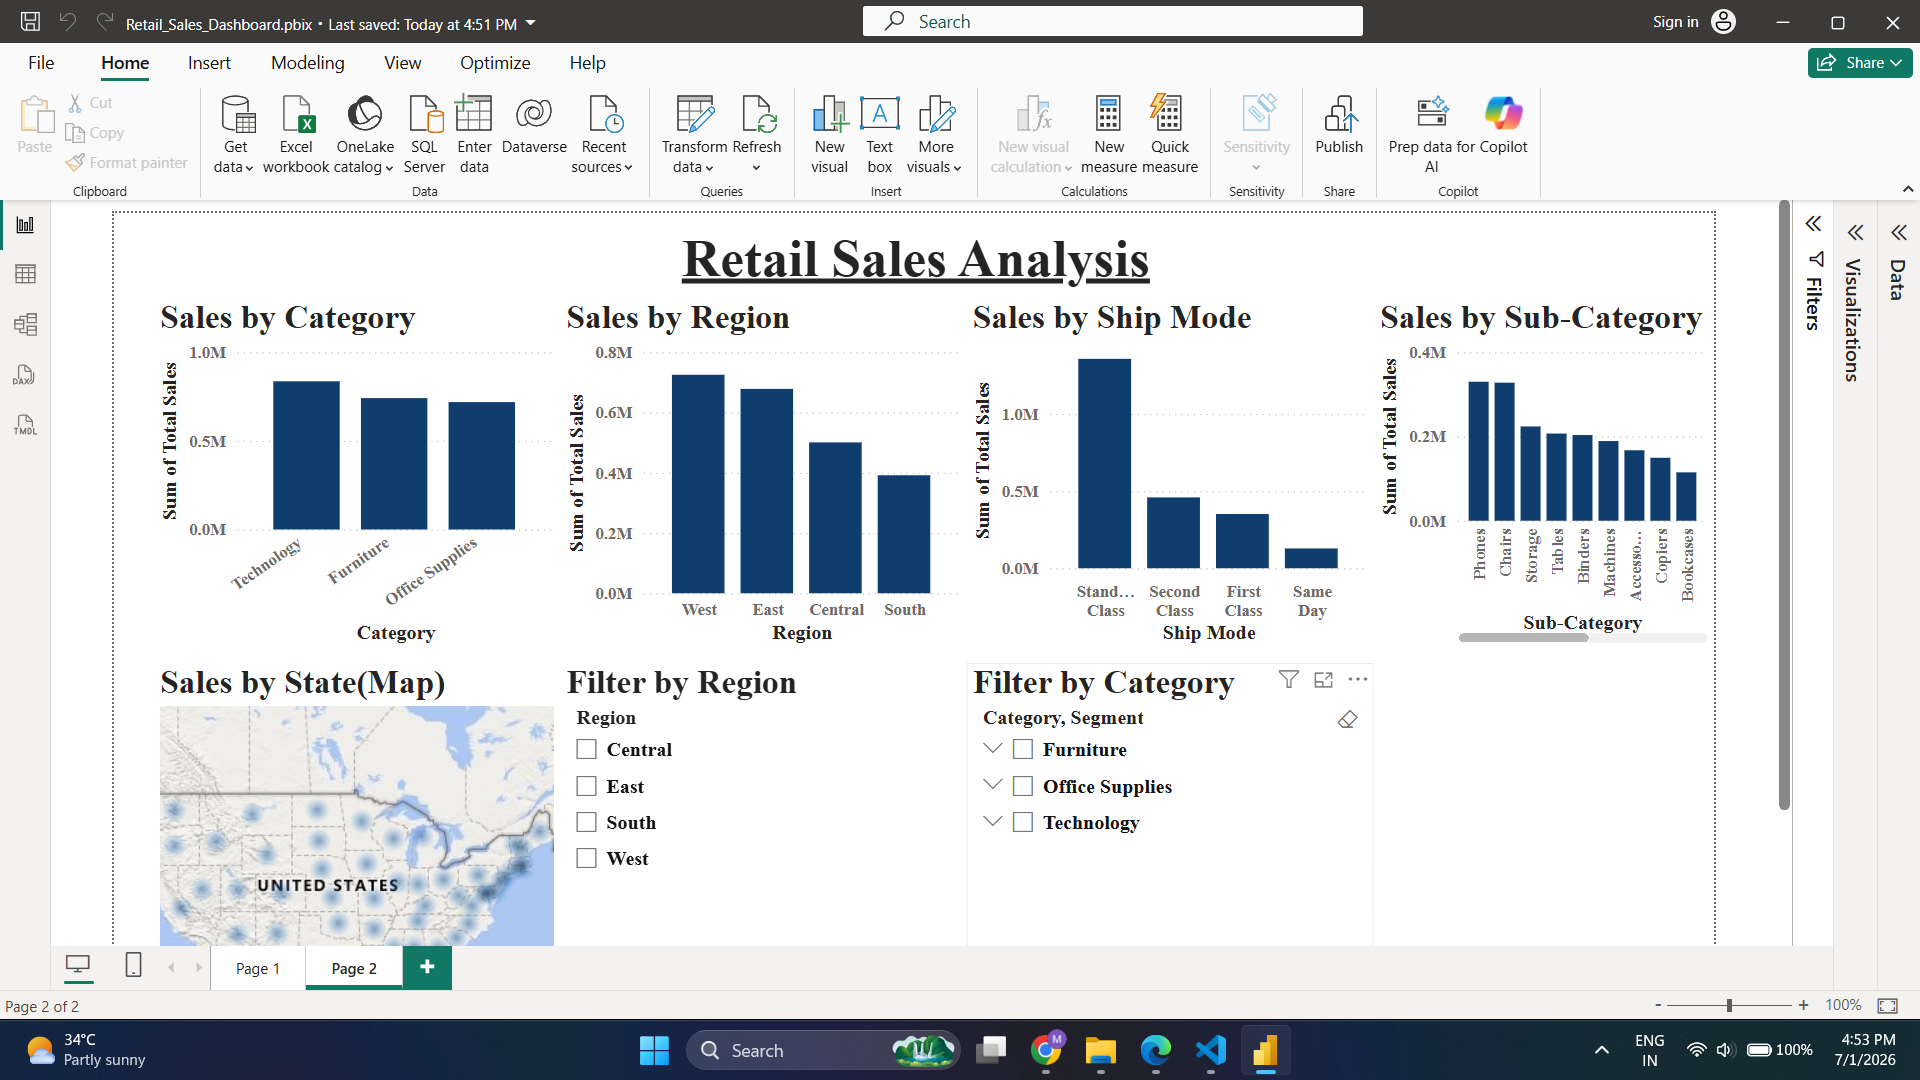

This screenshot's page, from the dashboard's own definition file:
{"tool":"powerbi","page":{"name":"Page 2","canvas":[1280,720],"ordinal":1},"visuals":[{"type":"clusteredColumnChart","title":"Sales by Category","fields":{"Category":["retail_sales_cleaned.Category"],"Y":["Sum(retail_sales_cleaned.Total Sales)"]},"box":[31.8,68.5,325.3,280],"z":0},{"type":"clusteredColumnChart","title":"Sales by Region","fields":{"Category":["retail_sales_cleaned.Region"],"Y":["Sum(retail_sales_cleaned.Sales)"]},"box":[357.1,68.5,325.3,280],"z":1000},{"type":"clusteredColumnChart","title":"Sales by Ship Mode","fields":{"Category":["retail_sales_cleaned.Ship Mode"],"Y":["Sum(retail_sales_cleaned.Total Sales)"]},"box":[682.3,68.5,325.3,280],"z":2000},{"type":"clusteredColumnChart","title":"Sales by Sub-Category","fields":{"Category":["retail_sales_cleaned.Sub-Category"],"Y":["Sum(retail_sales_cleaned.Total Sales)"]},"box":[1007.6,68.5,272.7,280],"z":3000},{"type":"map","title":"Sales by State(Map)","fields":{"Category":["retail_sales_cleaned.State"]},"box":[31.8,359.5,325.3,344.8],"z":4000},{"type":"slicer","title":"Filter by Category","fields":{"Values":["retail_sales_cleaned.Category","retail_sales_cleaned.Segment"]},"box":[682.3,359.5,325.3,344.8],"z":5000},{"type":"slicer","title":"Filter by Region","fields":{"Values":["retail_sales_cleaned.Region"]},"box":[357.1,359.5,325.3,344.8],"z":6000},{"type":"textbox","box":[17.1,6.1,1248.5,62.4],"z":7000}]}

Visuals, with their boxes on the page's 1280x720 design canvas (x1, y1, x2, y2). These are canvas units, not pixel positions in the 1920x1080 screenshot, which may show the page scaled, cropped or inside an application window:
"Sales by Category" clusteredColumnChart: <region>32, 68, 357, 348</region>
"Sales by Region" clusteredColumnChart: <region>357, 68, 682, 348</region>
"Sales by Ship Mode" clusteredColumnChart: <region>682, 68, 1008, 348</region>
"Sales by Sub-Category" clusteredColumnChart: <region>1008, 68, 1280, 348</region>
"Sales by State(Map)" map: <region>32, 360, 357, 704</region>
"Filter by Category" slicer: <region>682, 360, 1008, 704</region>
"Filter by Region" slicer: <region>357, 360, 682, 704</region>
textbox: <region>17, 6, 1266, 68</region>
